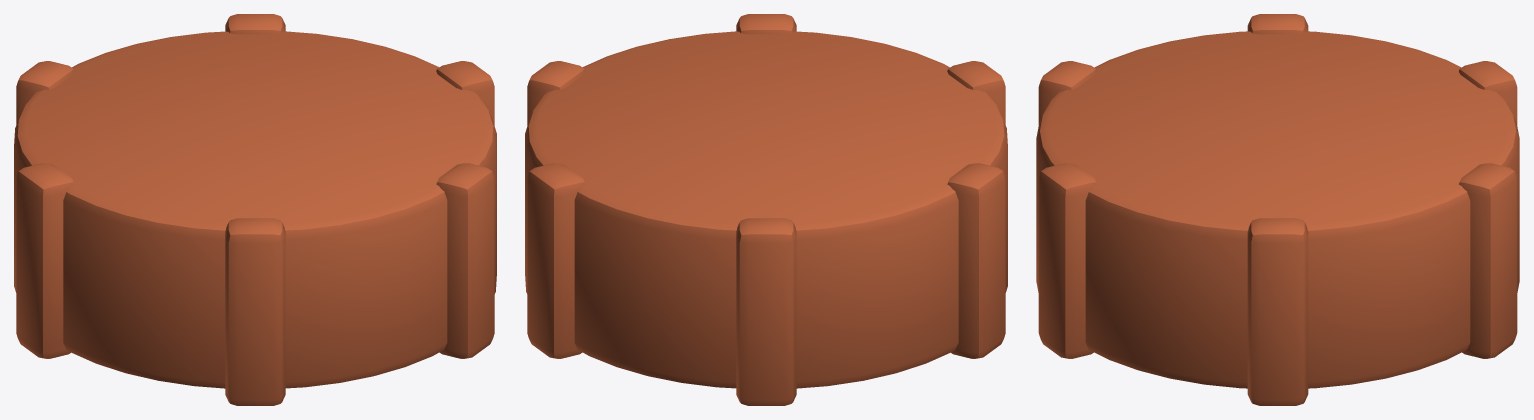
The model's file is heat_gun_temperature_wheel.glb.
3 views of the same model, side by side, from view 1: azimuth 30°, elevation 25°; view 2: azimuth 150°, elevation 25°; view 3: azimuth 270°, elevation 25° (orthographic).
Parts seen in each view (by area): view 1: heat_gun_temperature_wheel; view 2: heat_gun_temperature_wheel; view 3: heat_gun_temperature_wheel.
Boxes of the visible parts, <box> form: heat_gun_temperature_wheel: <box>14,14,496,405</box>; heat_gun_temperature_wheel: <box>525,14,1007,405</box>; heat_gun_temperature_wheel: <box>1036,14,1519,405</box>.
Bounding box in the file's own units: 0.035 × 0.013 × 0.032.
